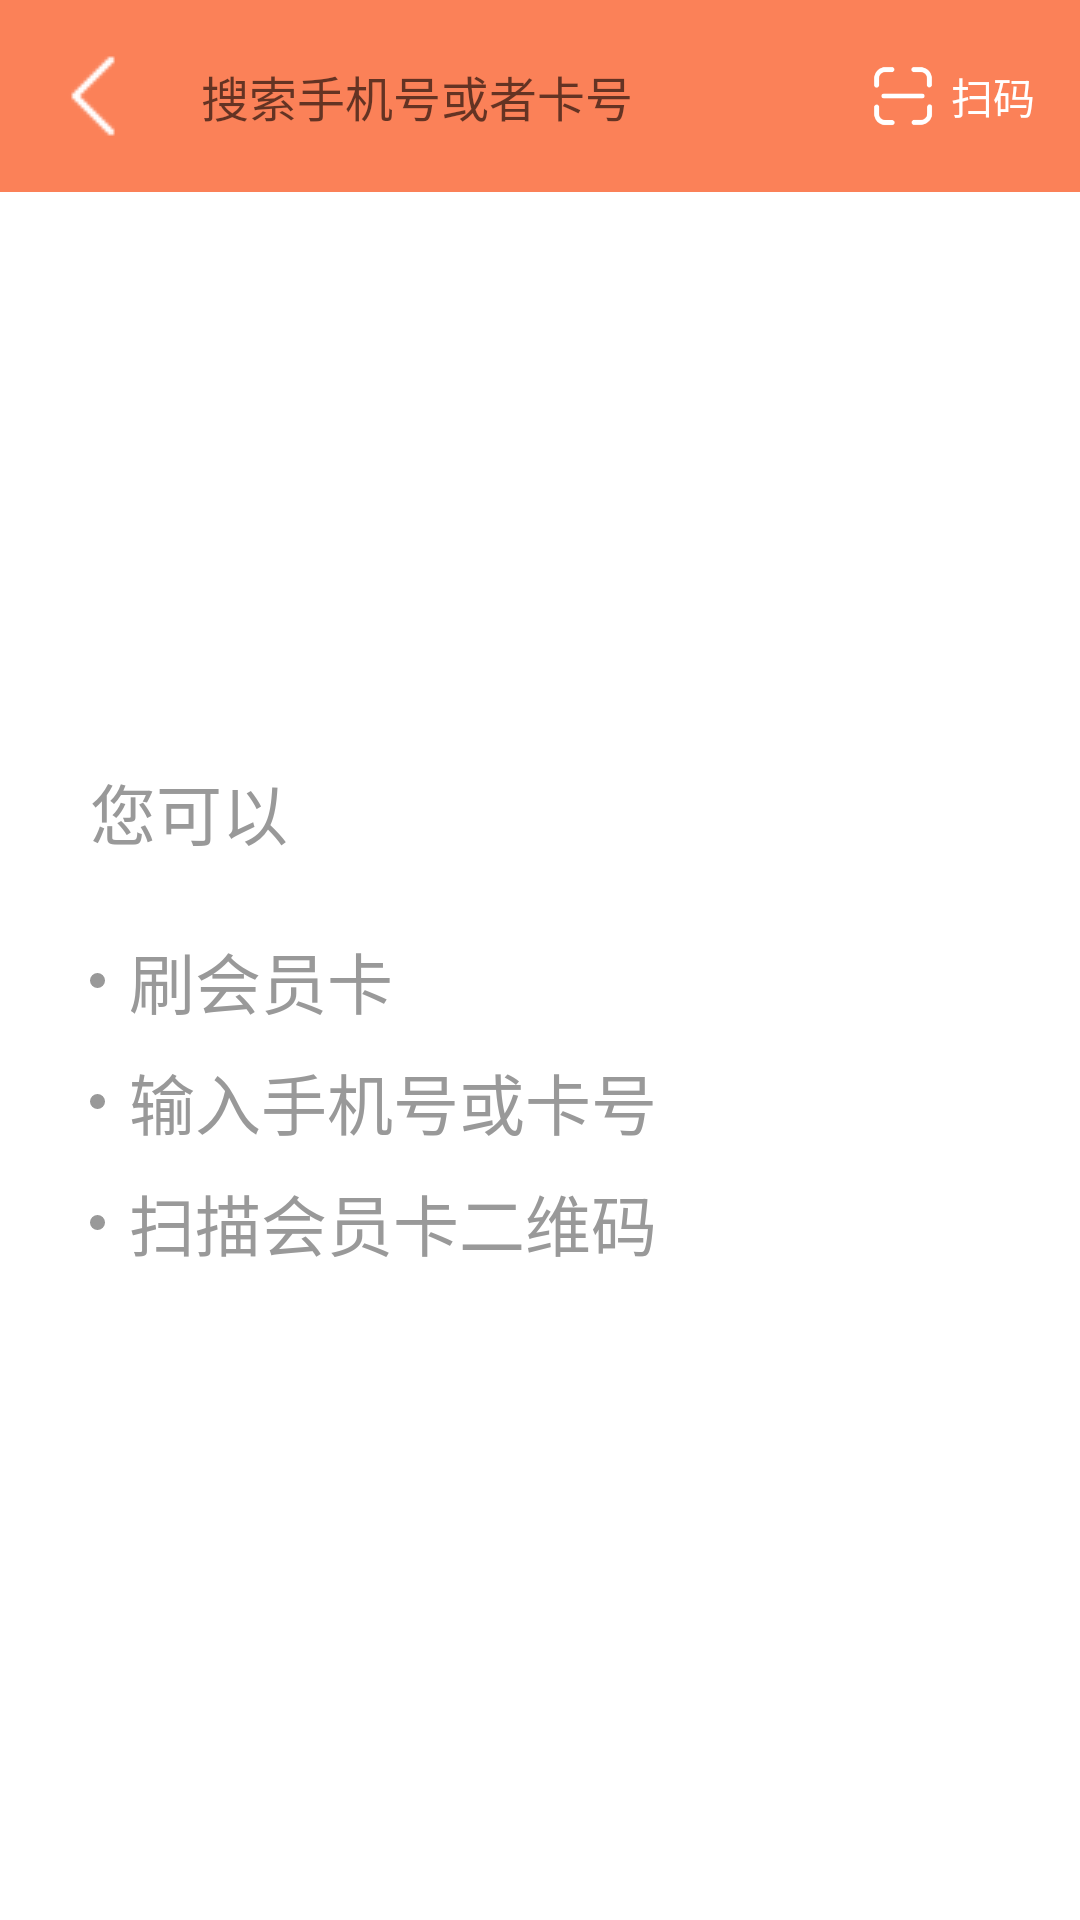

Locate icon controls on the screen. Image size 1080×1920, boxes as box=[x1, y1, x2, y2].
left: box=[71, 56, 115, 136]
